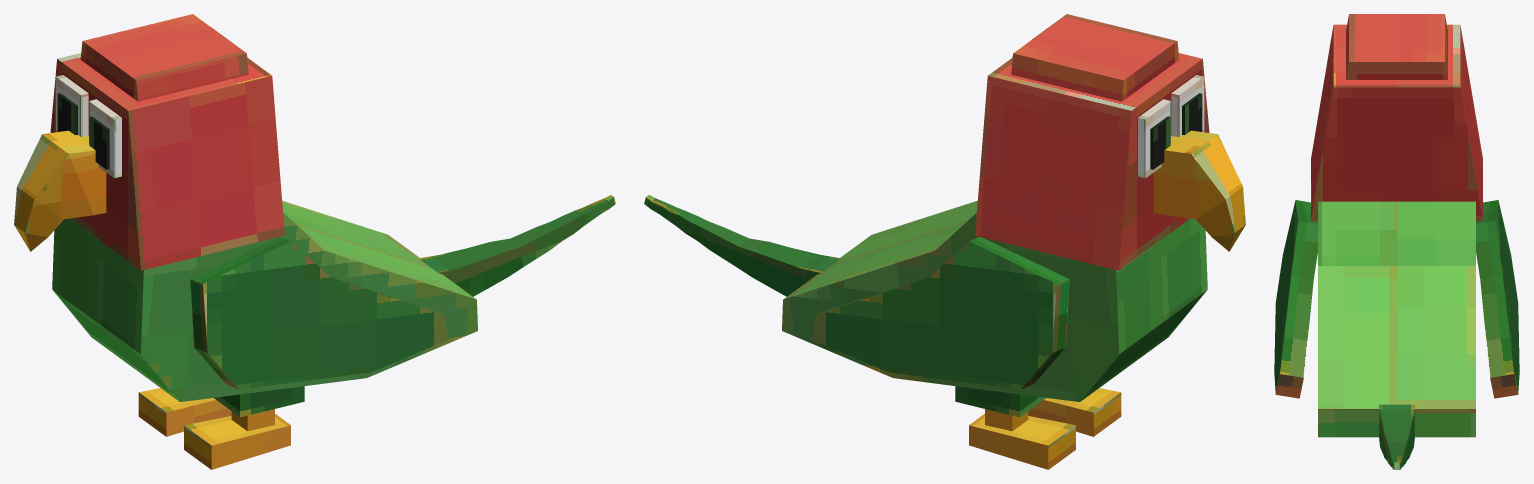
File: animal_parrot.obj
3 views of the same model, side by side, from view 1: azimuth 30°, elevation 25°; view 2: azimuth 150°, elevation 25°; view 3: azimuth 270°, elevation 25° (orthographic). The views are drawn at different scales.
Parts seen in each view (by area): view 1: animal_parrot; view 2: animal_parrot; view 3: animal_parrot.
Boxes of the visible parts, bbox=[...] form: animal_parrot: bbox=[14, 14, 615, 469]; animal_parrot: bbox=[644, 14, 1245, 469]; animal_parrot: bbox=[1274, 14, 1519, 469].
Size of the model in its own units: 4.34 by 2.78 by 1.74.
1 material, 1 textured.
